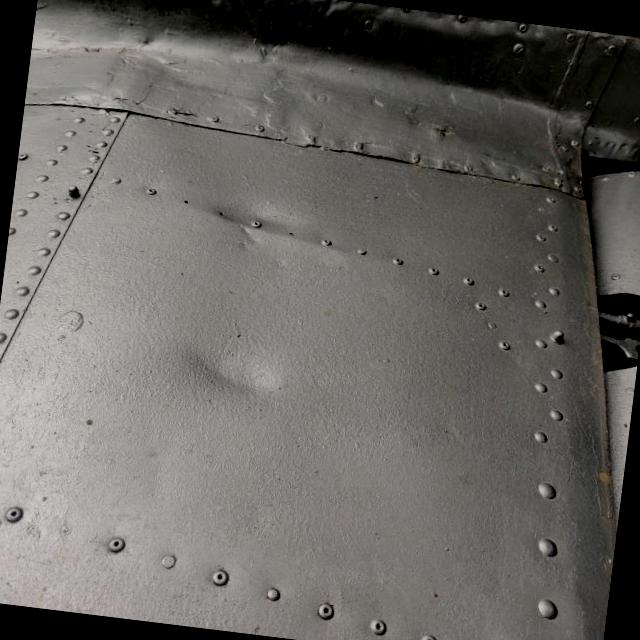dent: (158, 320, 300, 427), (198, 180, 348, 276)
